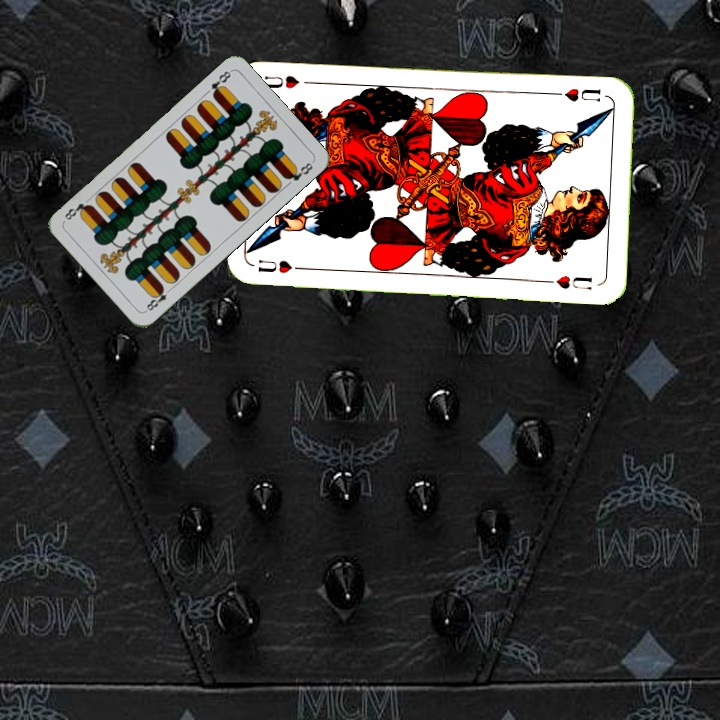E8: (141, 283, 175, 314), (207, 66, 234, 100)
HU: (253, 256, 311, 276), (550, 84, 604, 104)
